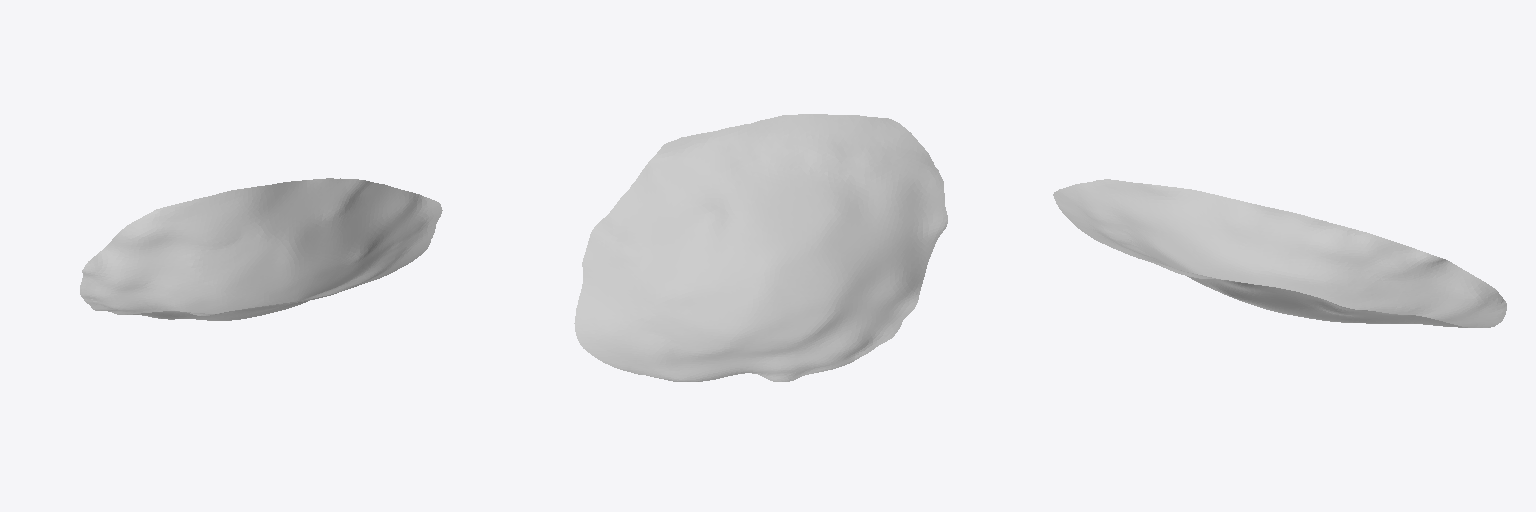
Rendered from Paciente1_fl_flex.obj.
3 renders of one model, left to right at view 1: azimuth 30°, elevation 25°; view 2: azimuth 150°, elevation 25°; view 3: azimuth 270°, elevation 25°, orthographic.
Parts seen in each view (by area): view 1: Paciente_1_fl_flex; view 2: Paciente_1_fl_flex; view 3: Paciente_1_fl_flex.
Part boxes in pixels (x1,y1,x2,y2): Paciente_1_fl_flex: (80,178,442,320); Paciente_1_fl_flex: (574,114,947,381); Paciente_1_fl_flex: (1053,179,1506,327).
Size of the model in its own units: 12.02 by 4.53 by 16.43.